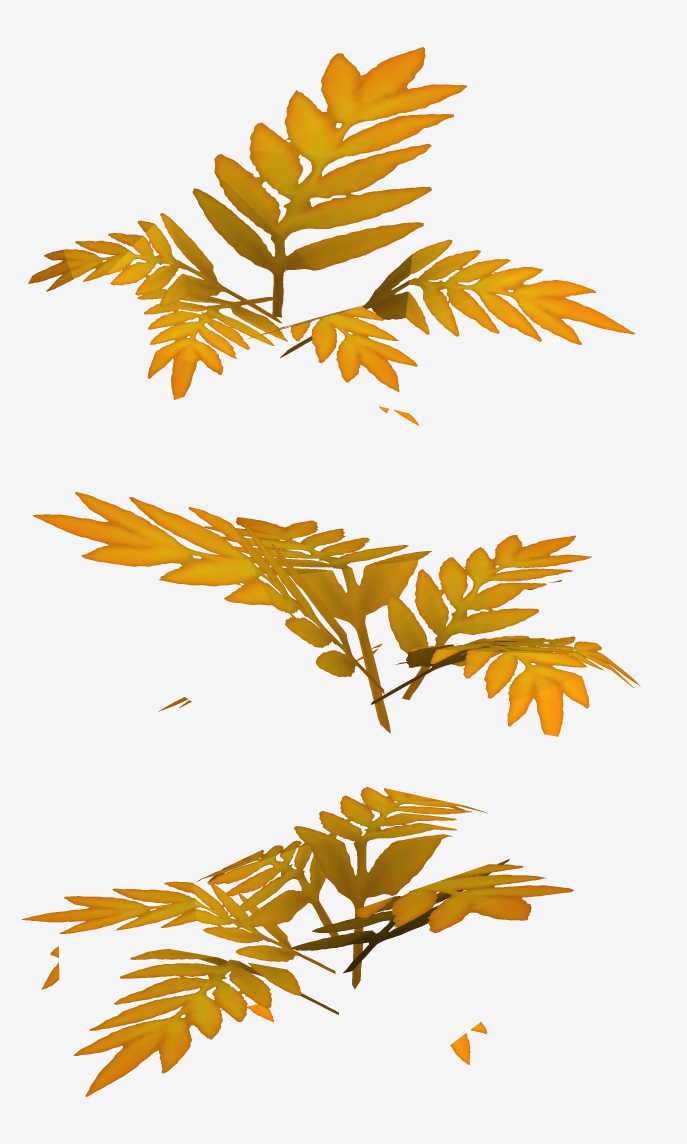
File: hua12.FBX
3 views of the same model, one above another, from view 1: azimuth 30°, elevation 25°; view 2: azimuth 150°, elevation 25°; view 3: azimuth 270°, elevation 25° (orthographic). The views are drawn at different scales.
Visible parts, largest first — view 1: hua09; view 2: hua09; view 3: hua09.
Part boxes in pixels (box(x1,y1,x2,y2)): hua09: box(28, 47, 635, 425); hua09: box(33, 492, 640, 736); hua09: box(21, 787, 573, 1096).
Bounding box in the file's own units: 46.62 × 16.74 × 44.23.
